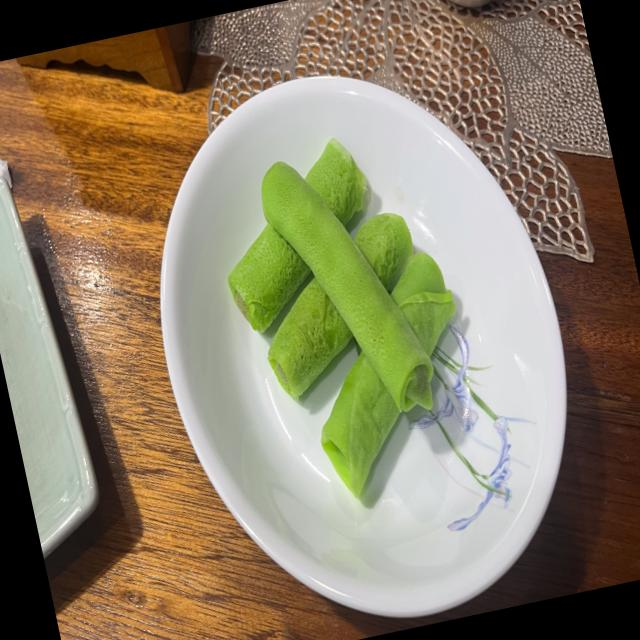Kuih-Ketayap: (261, 161, 433, 410), (321, 352, 399, 496), (267, 278, 351, 398), (228, 222, 310, 332), (391, 253, 456, 354), (305, 138, 366, 224), (354, 212, 413, 290)
